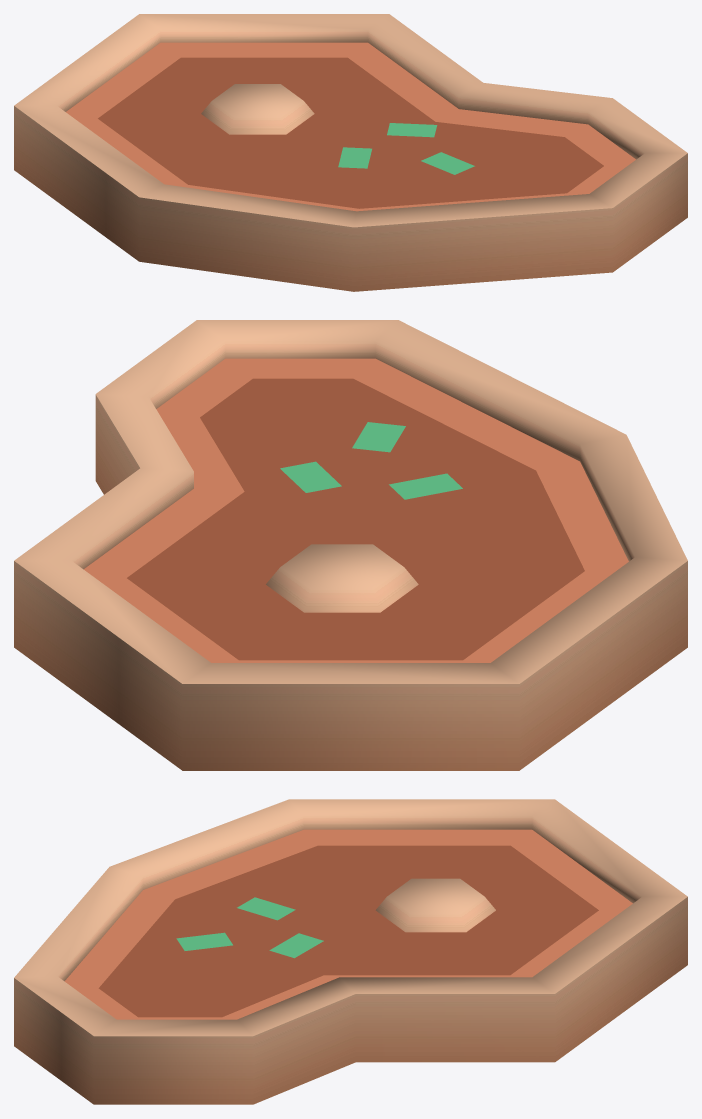
File: meat-cooked.glb
3 renders of one model, top to bottom at view 1: azimuth 30°, elevation 25°; view 2: azimuth 150°, elevation 25°; view 3: azimuth 270°, elevation 25°, orthographic. The views are drawn at different scales.
Visible parts, largest first — view 1: meat-cooked; view 2: meat-cooked; view 3: meat-cooked.
Part boxes in pixels (<box>): meat-cooked: <box>14,14,687,291</box>; meat-cooked: <box>14,320,687,770</box>; meat-cooked: <box>14,799,687,1104</box>.
Bounding box in the file's own units: 0.4785 × 0.0645 × 0.5754.
Materials: 1 (1 with a texture image).
